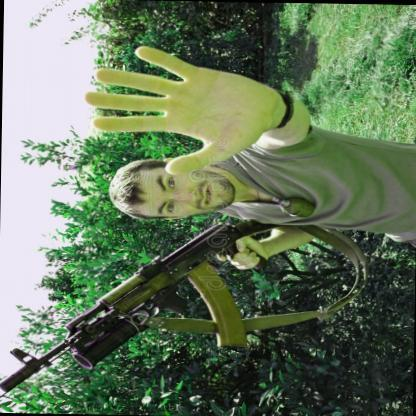rifle: (2, 213, 271, 402)
